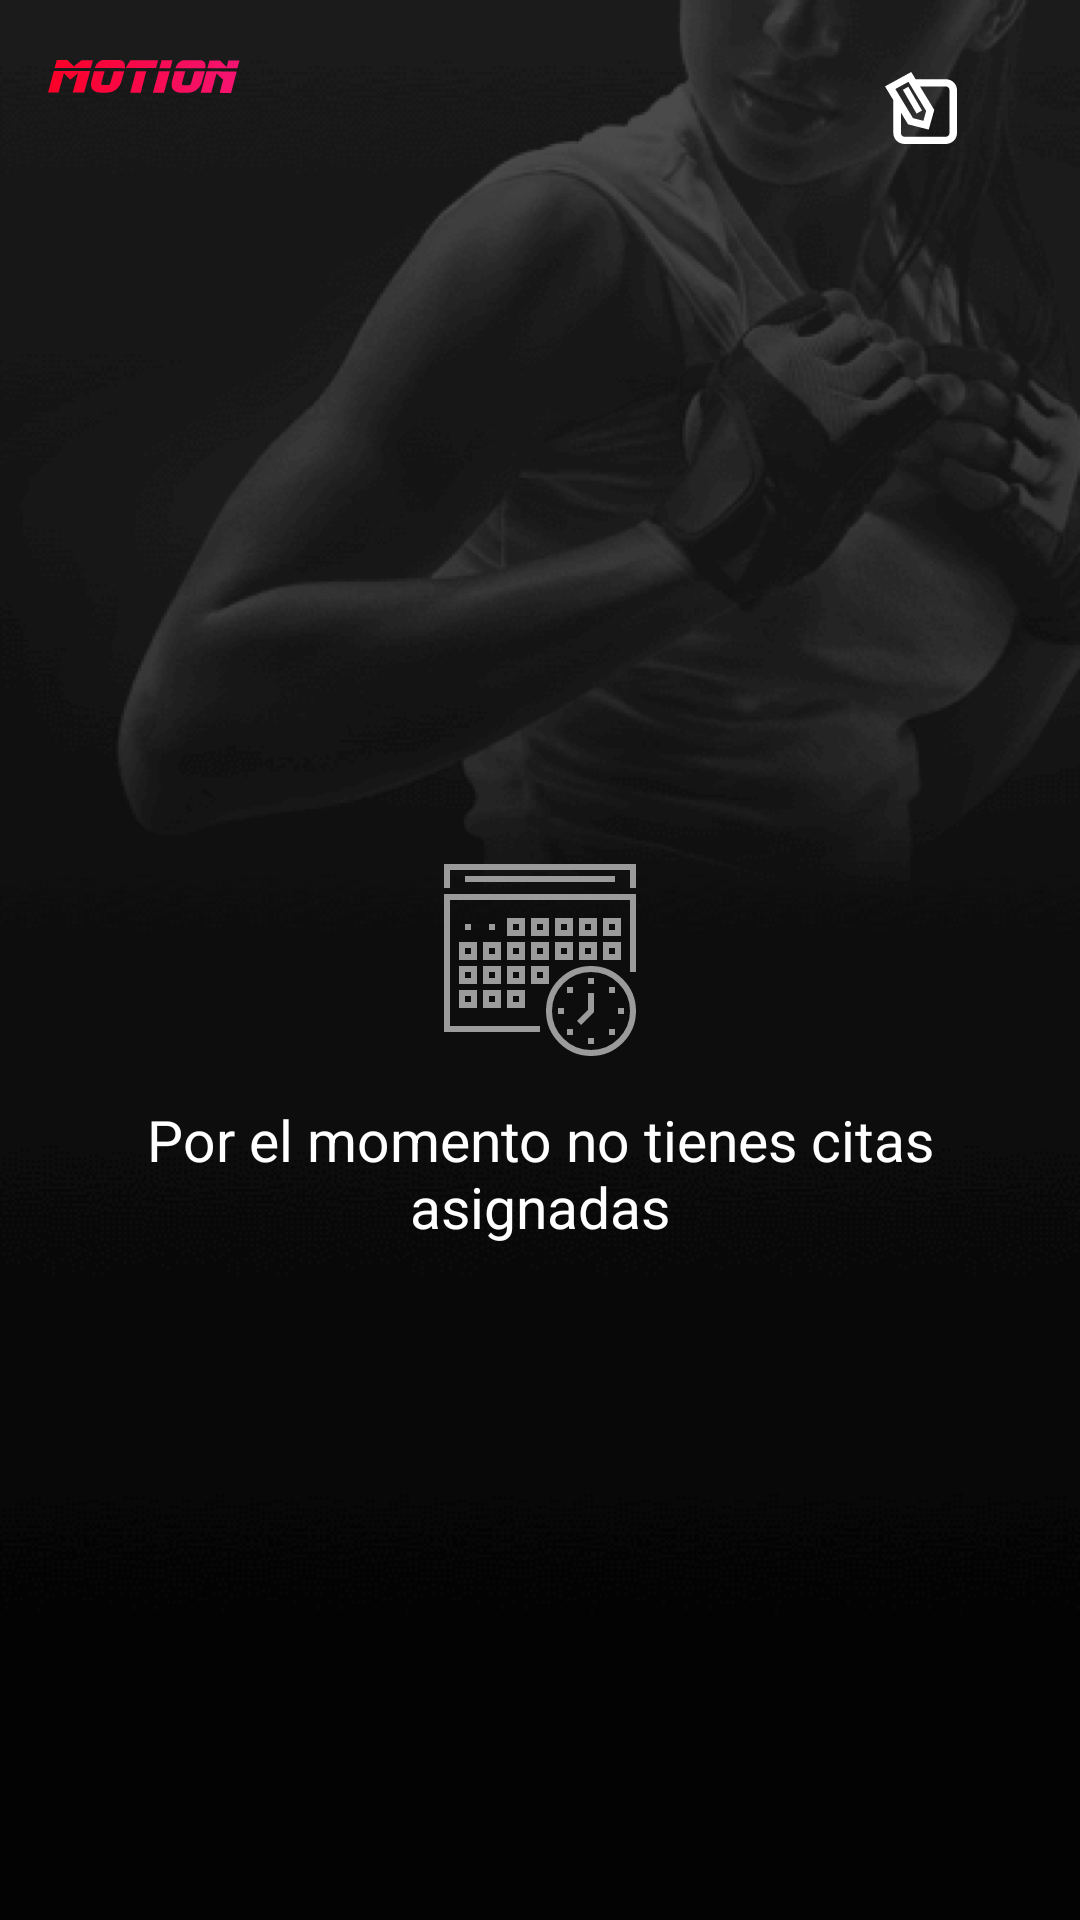

Icons on this 1080×1920 Android screen, each with the point to tap as (x=x, y=y):
class time: (x=540, y=960)
